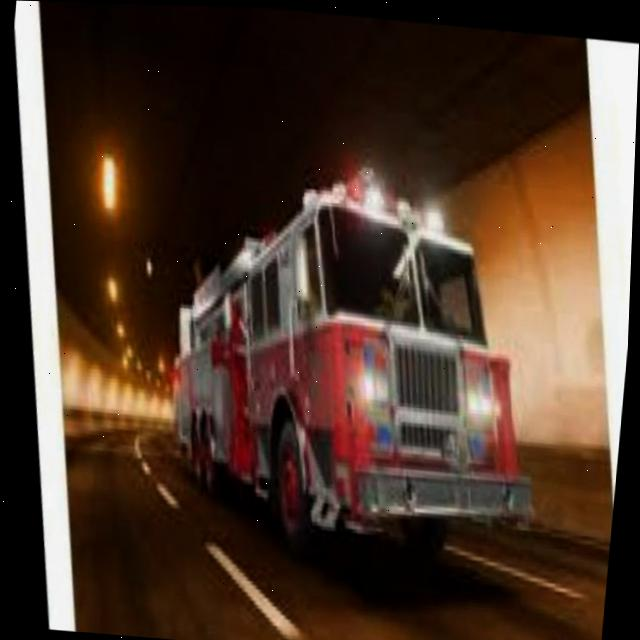emergency: (155, 146, 567, 602)
